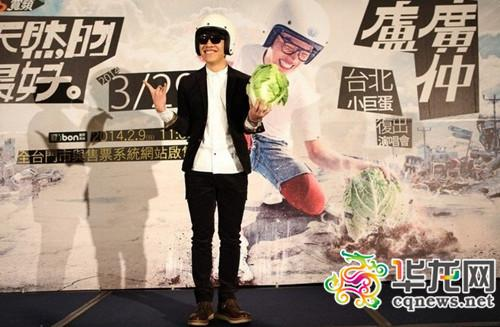helmet: (261, 1, 333, 69), (195, 18, 237, 59)
